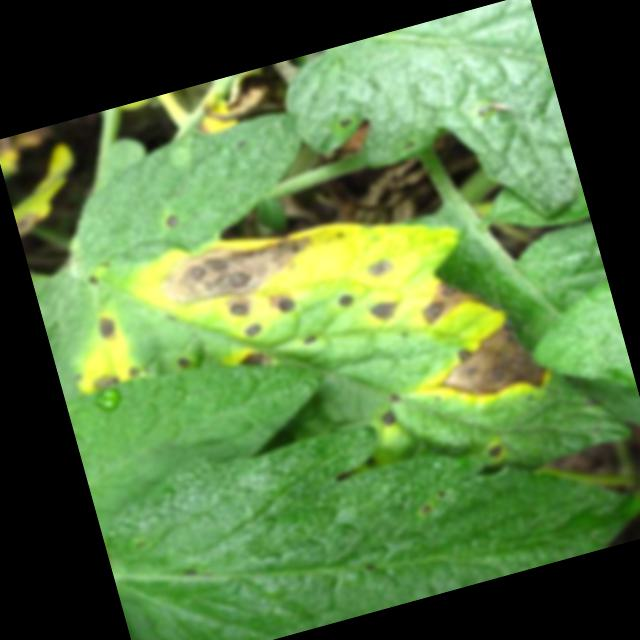Early_blight: (149, 213, 326, 315), (407, 312, 555, 422), (413, 263, 508, 333), (223, 289, 261, 323), (232, 342, 273, 371), (265, 285, 301, 317), (93, 310, 125, 344), (368, 295, 404, 325), (364, 252, 398, 281), (89, 368, 121, 393), (482, 433, 508, 462), (239, 316, 266, 340), (379, 406, 401, 429), (161, 211, 183, 229), (337, 289, 357, 307), (175, 352, 195, 370), (301, 331, 322, 346)
